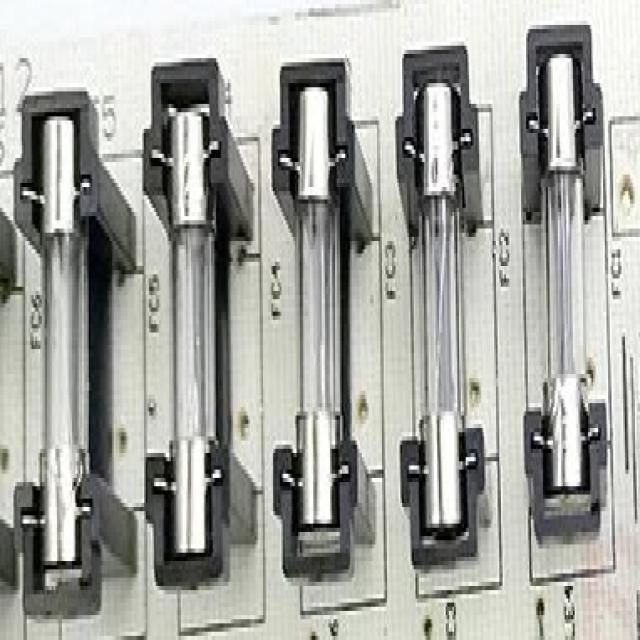fuse F1: (267, 69, 376, 575), (395, 55, 493, 568), (135, 59, 231, 581), (520, 27, 616, 548), (22, 82, 98, 594)
